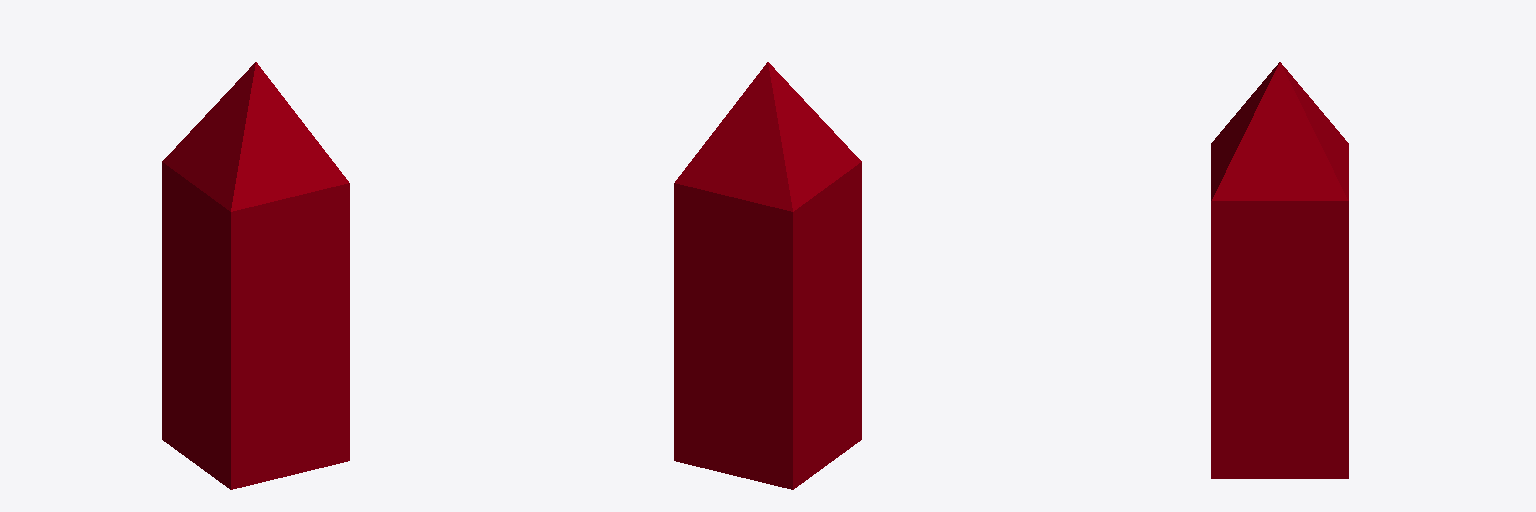
The model's file is arrow.obj.
The picture shows the model from 3 angles: view 1: azimuth 30°, elevation 25°; view 2: azimuth 150°, elevation 25°; view 3: azimuth 270°, elevation 25°; orthographic projection.
Visible parts, largest first — view 1: Cube; view 2: Cube; view 3: Cube.
Part boxes in pixels (left/top/right/bottom): Cube: left=162, top=62, right=349, bottom=489; Cube: left=674, top=62, right=861, bottom=489; Cube: left=1211, top=62, right=1348, bottom=478.
Bounding box in the file's own units: 0.3066 × 0.9575 × 0.3066.